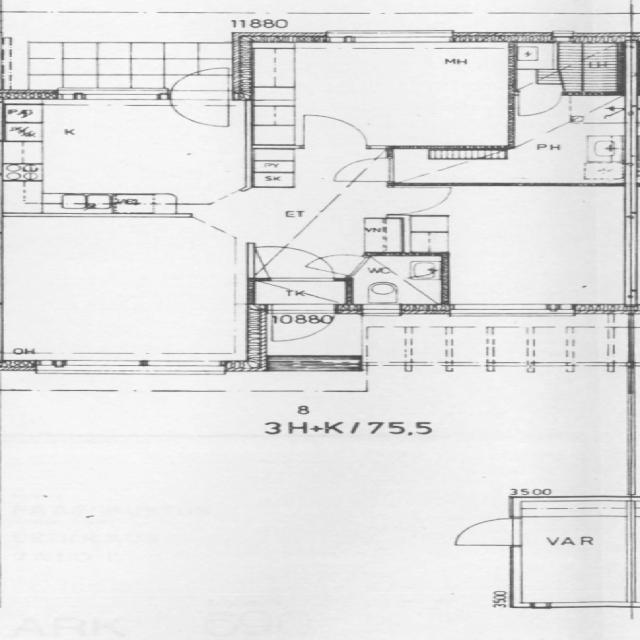door: (161, 68, 240, 130), (432, 513, 526, 551), (294, 110, 376, 151), (263, 302, 342, 344), (380, 182, 460, 216), (510, 82, 568, 118), (337, 158, 394, 187), (286, 248, 347, 274), (307, 252, 366, 278), (383, 157, 435, 186)
window: (48, 355, 223, 375), (46, 85, 166, 106), (452, 300, 582, 319), (326, 29, 460, 47)
zone: (0, 210, 253, 367), (397, 182, 630, 311), (0, 96, 257, 212), (252, 39, 518, 148), (512, 501, 638, 611), (511, 90, 632, 184), (514, 36, 630, 96), (348, 254, 449, 311), (522, 326, 632, 368)
